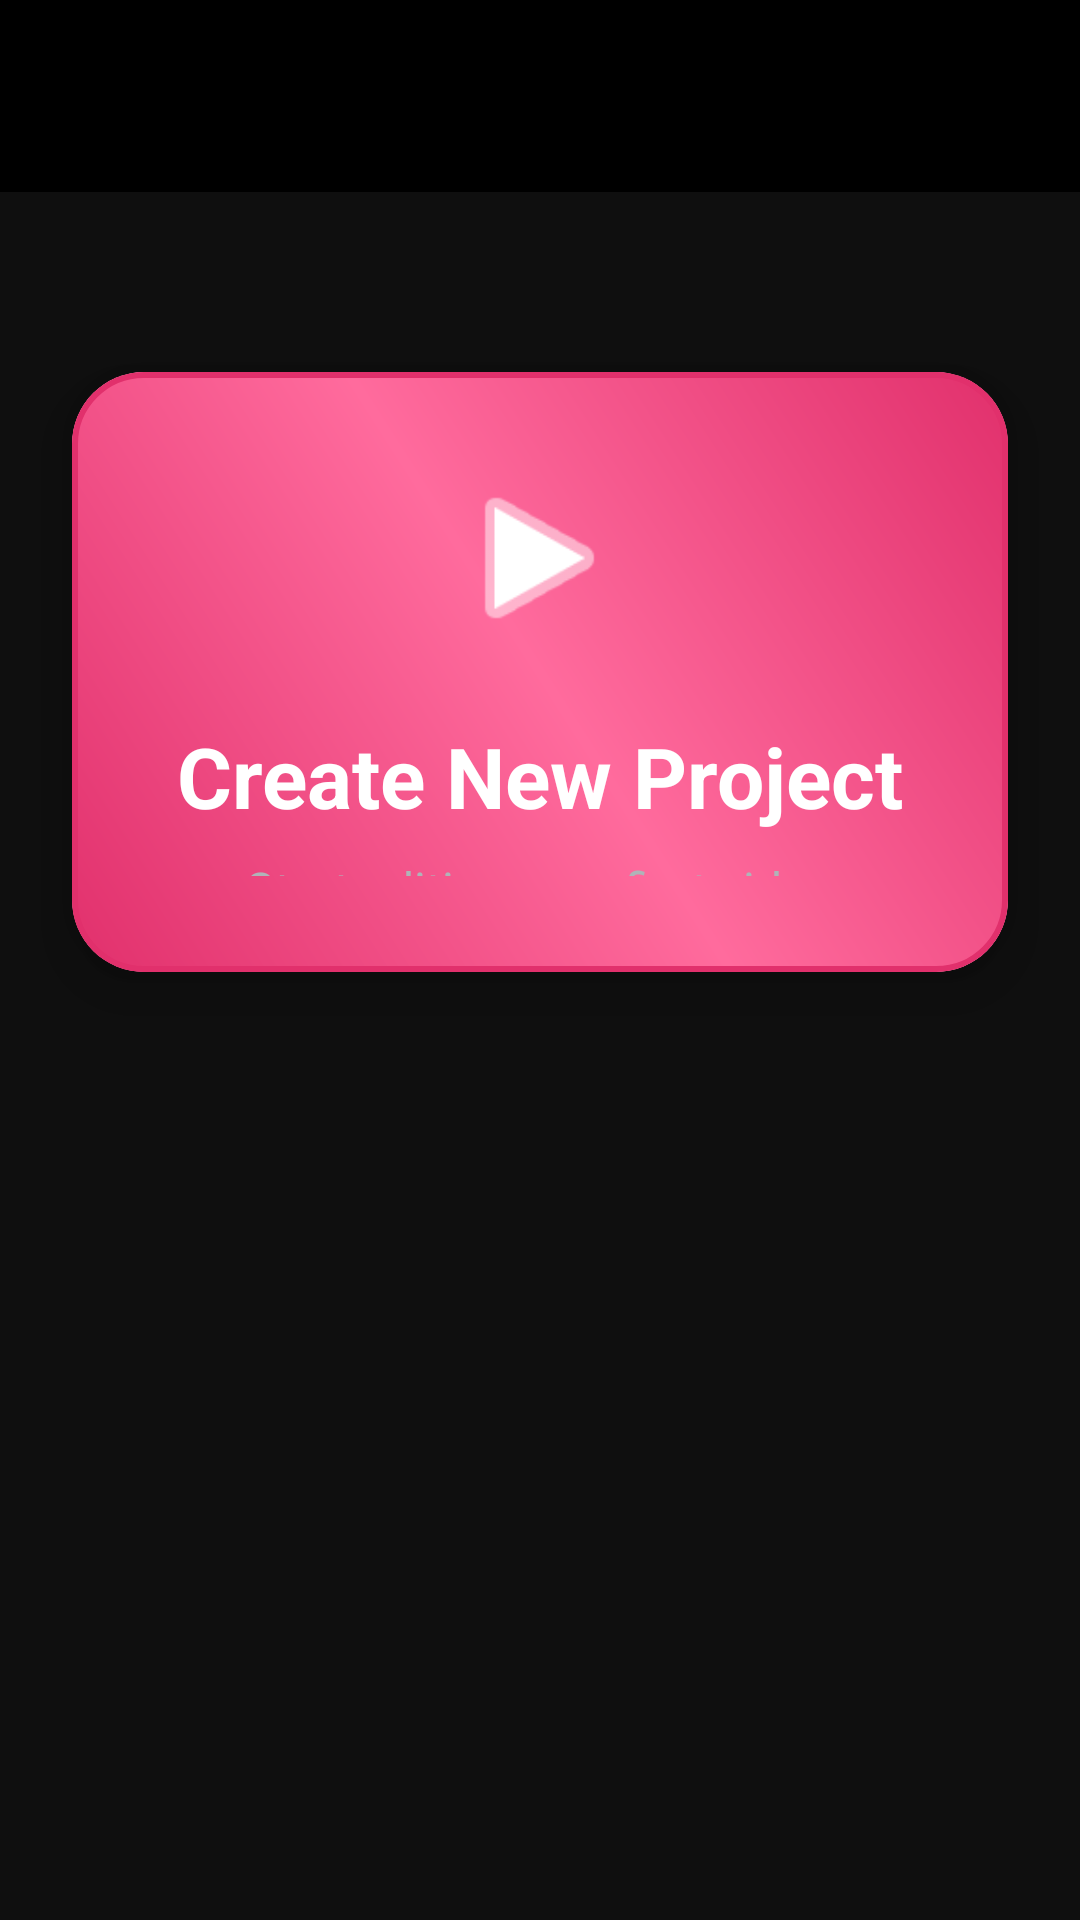

Icon click points for this 1080 x 1920 phone screenshot, format (x=x, y=y):
play: (x=539, y=558)
